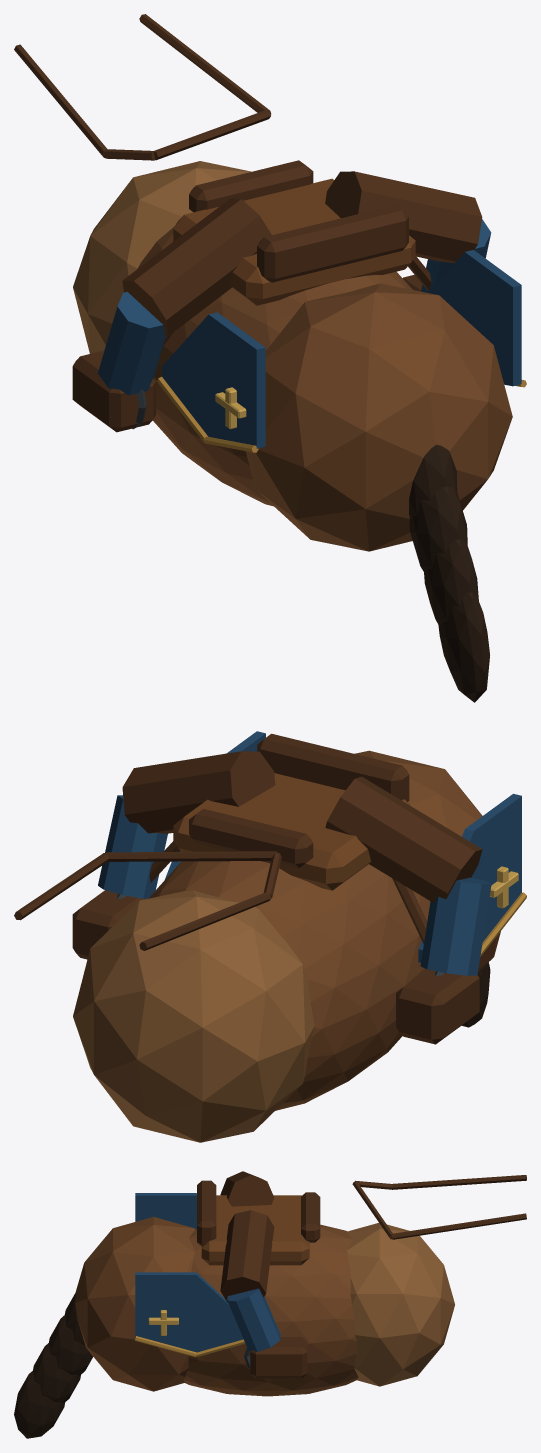
File: Body.glb
The picture shows the model from 3 angles, top to bottom: view 1: azimuth 30°, elevation 25°; view 2: azimuth 150°, elevation 25°; view 3: azimuth 270°, elevation 25°; orthographic projection. The views are drawn at different scales.
Visible parts, largest first — view 1: Sculpture; view 2: Sculpture; view 3: Sculpture.
Part boxes in pixels (left/top/right/bottom): Sculpture: left=14, top=14, right=526, bottom=702; Sculpture: left=14, top=731, right=526, bottom=1142; Sculpture: left=14, top=1171, right=526, bottom=1438.
Bounding box in the file's own units: 1.33 × 1.33 × 2.52.
